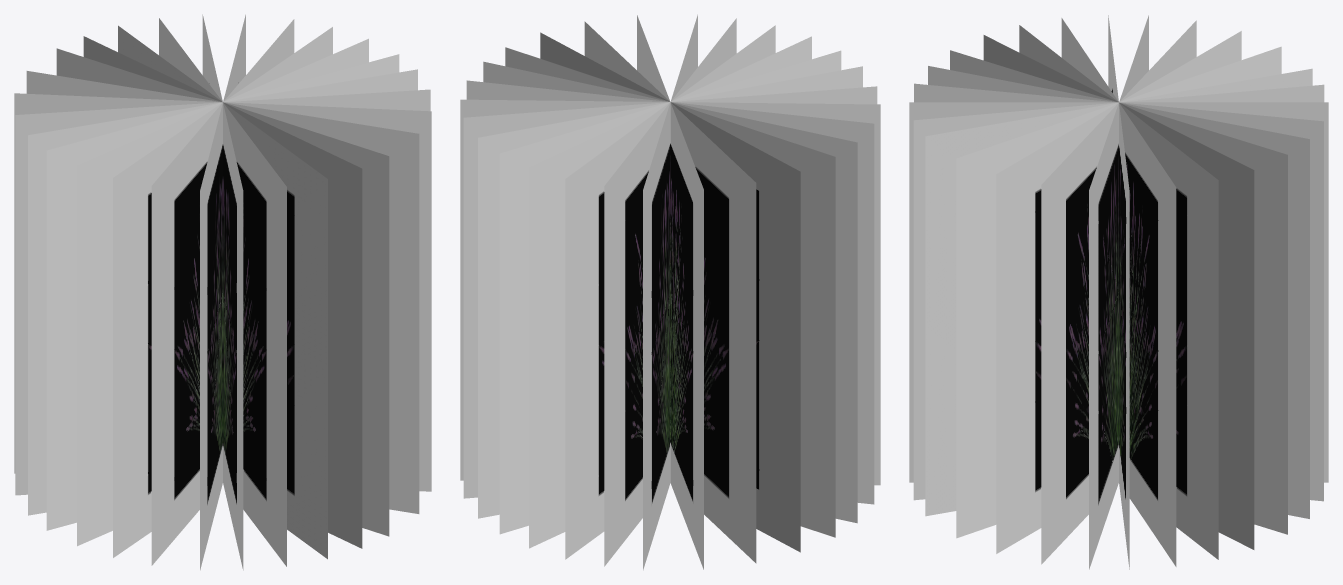
File: lavenderBush.fbx
The picture shows the model from 3 angles, left to right: view 1: azimuth 30°, elevation 25°; view 2: azimuth 150°, elevation 25°; view 3: azimuth 270°, elevation 25°; orthographic projection.
Parts seen in each view (by area): view 1: lavender; view 2: lavender; view 3: lavender.
Part boxes in pixels (<box>): lavender: <box>14,14,431,570</box>; lavender: <box>460,14,880,570</box>; lavender: <box>909,15,1328,569</box>.
Size of the model in its own units: 0.9987 by 1 by 1.
